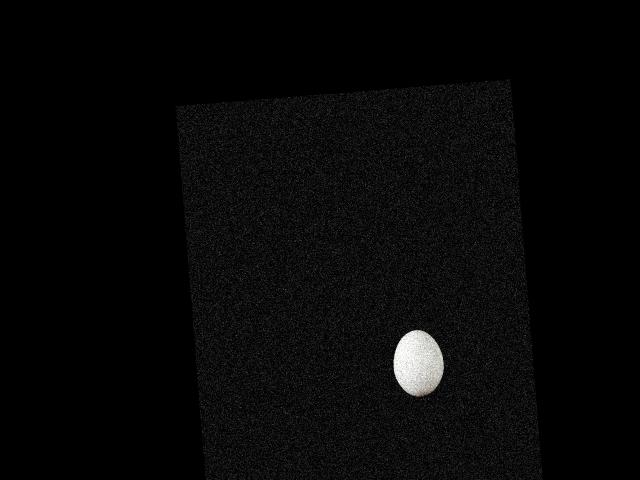egg: (390, 328, 445, 398)
